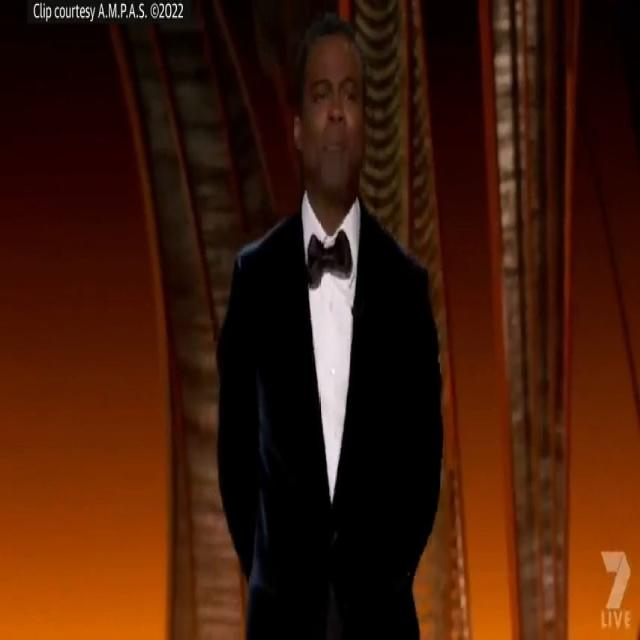non-fight: (210, 12, 446, 640)
